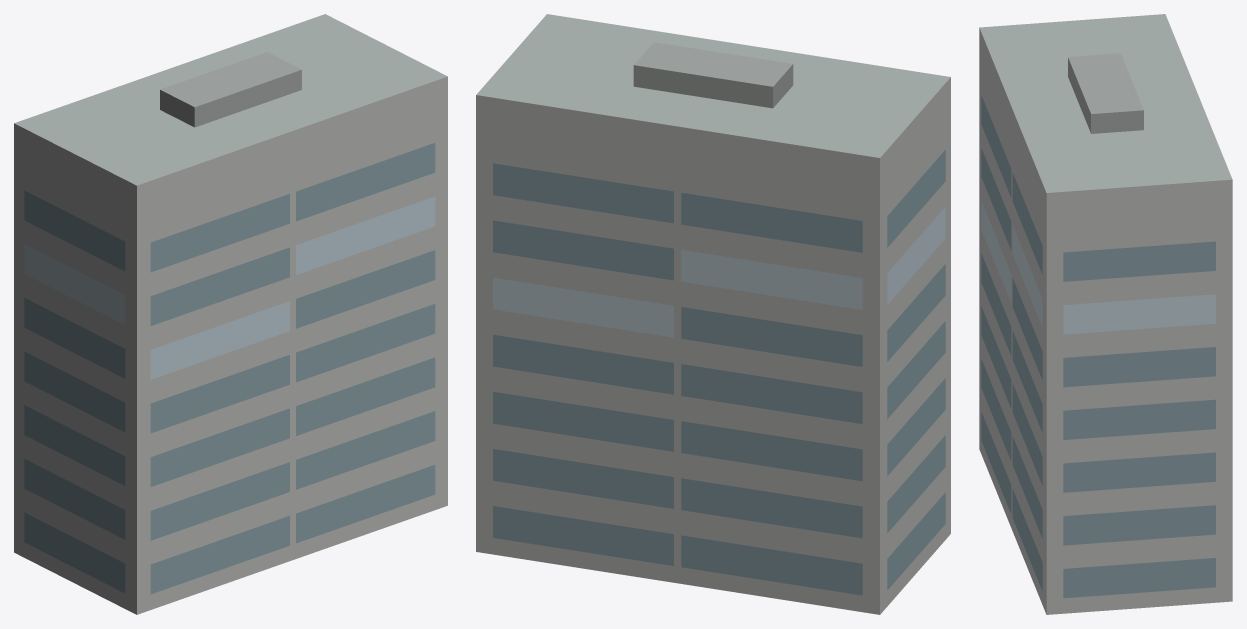
File: apt-a13527002.glb
3 renders of one model, left to right at view 1: azimuth 30°, elevation 25°; view 2: azimuth 150°, elevation 25°; view 3: azimuth 270°, elevation 25°, orthographic. The views are drawn at different scales.
Parts seen in each view (by area): view 1: apt-a13527002; view 2: apt-a13527002; view 3: apt-a13527002.
Part boxes in pixels (bbox=[...]): apt-a13527002: bbox=[14, 14, 447, 614]; apt-a13527002: bbox=[476, 14, 950, 614]; apt-a13527002: bbox=[979, 14, 1232, 614].
Bounding box in the file's own units: 20.86 × 24 × 12.47.
